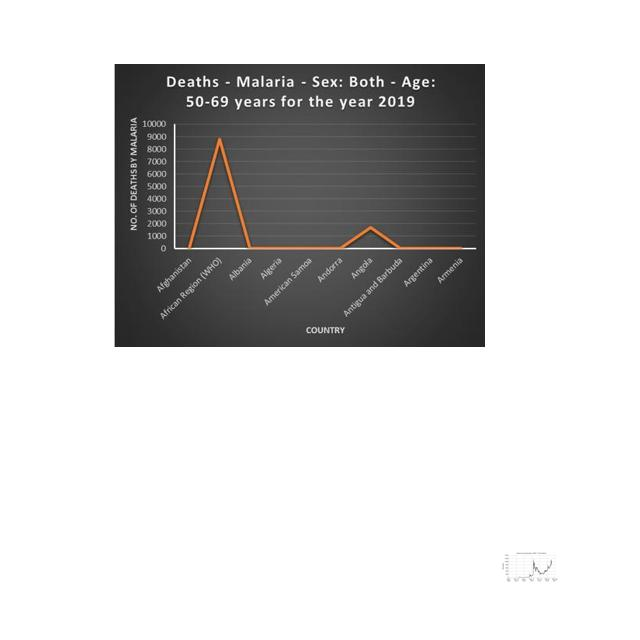Graph: (114, 64, 485, 347), (502, 549, 558, 583)
